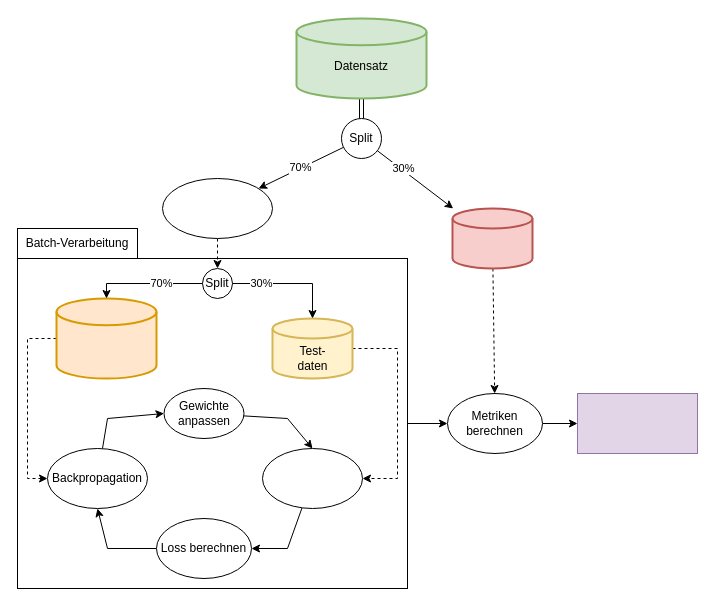
The diagram is 715 pixels wide and 606 high, and some of its shapes have lost their labels. The shapes that lost their labels are listed below. From the top down, each one's box as (x1, y1, x2, y2) in pixels, then its label:
(162, 178, 272, 238): Daten in Batches unterteilen
(451, 207, 533, 269): Evaluations- daten
(55, 297, 157, 379): Trainings- daten
(576, 392, 698, 454): Fertiges Modell
(262, 448, 362, 508): Forward- propagation
